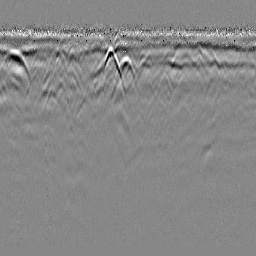cavity: (109, 55, 139, 100)
